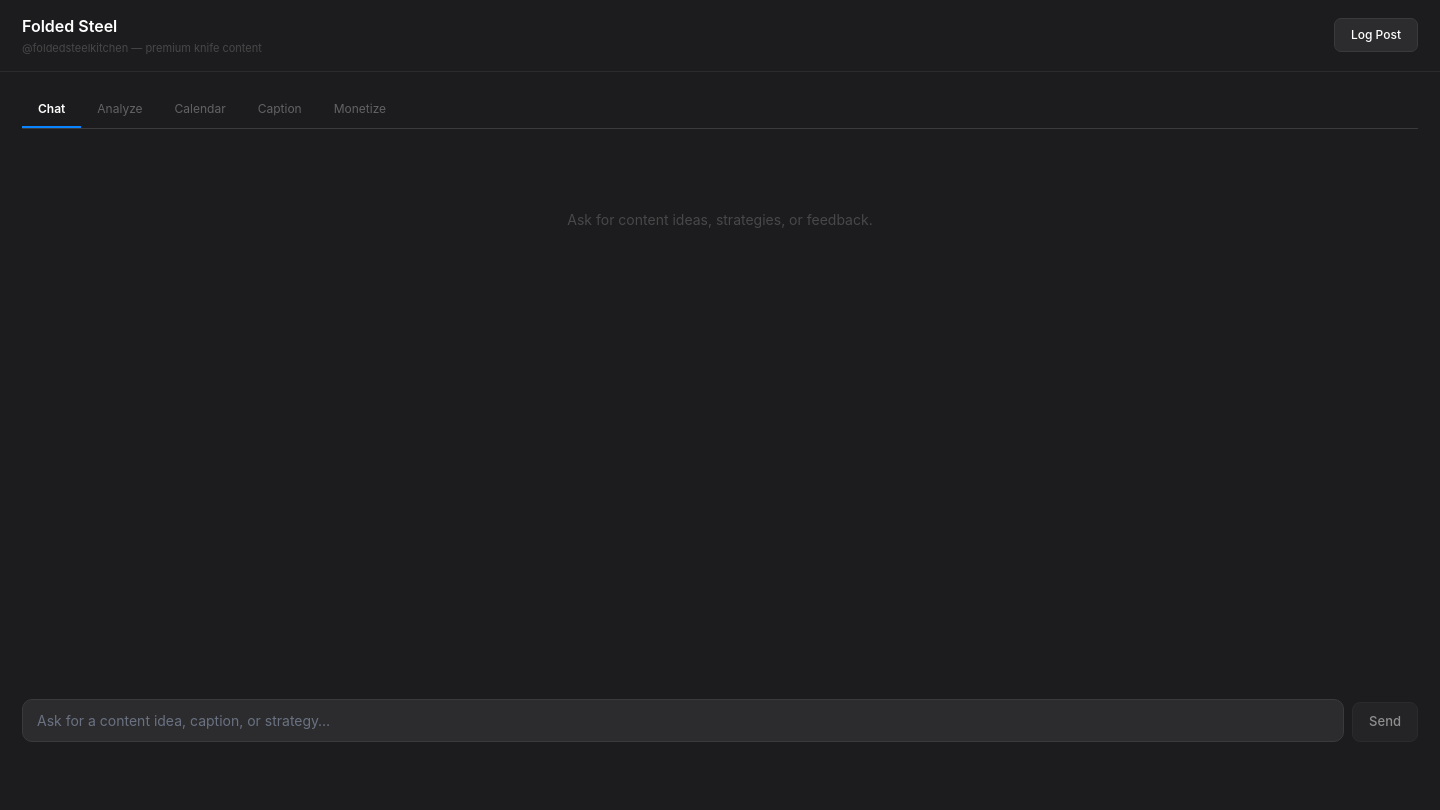
Test: shows error when API fails
Type "hello" into the text box with placeholder "Ask for a content idea, caption, or strategy…" at [683, 720], box [22, 698, 1344, 742]
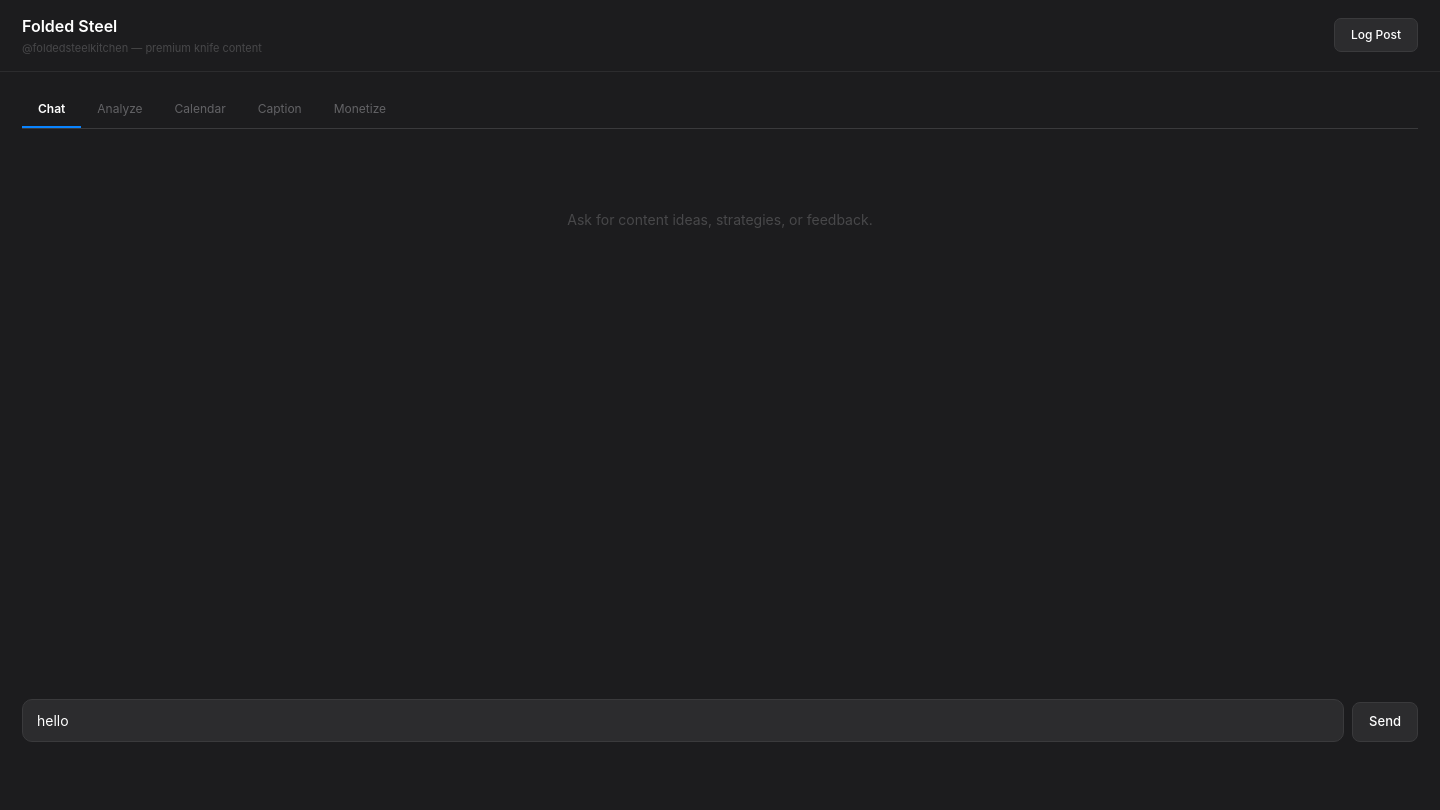
Click the button "Send" at [1385, 722], box [1352, 702, 1418, 742]
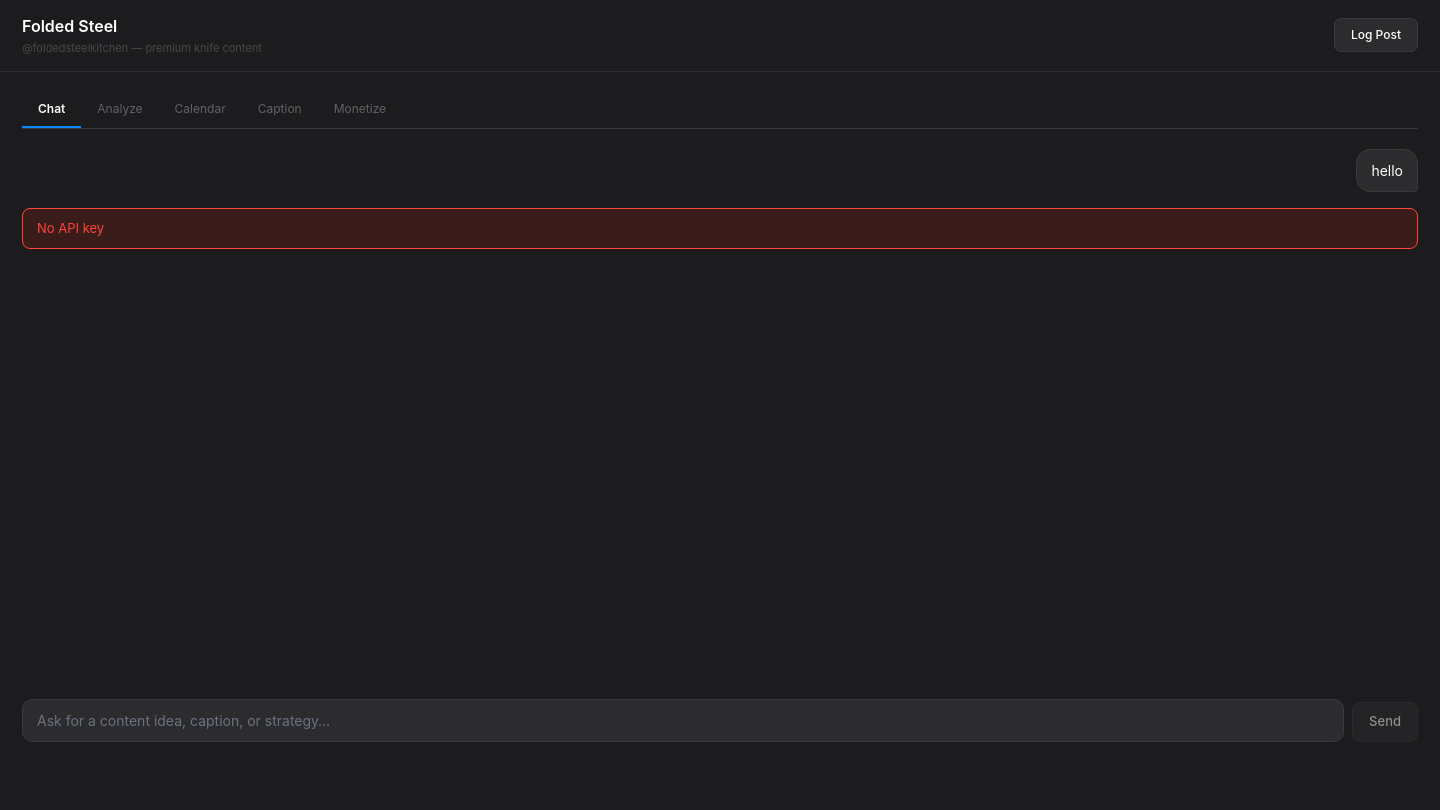
Result: the text "No API key" is shown at [22, 208, 1418, 249]
